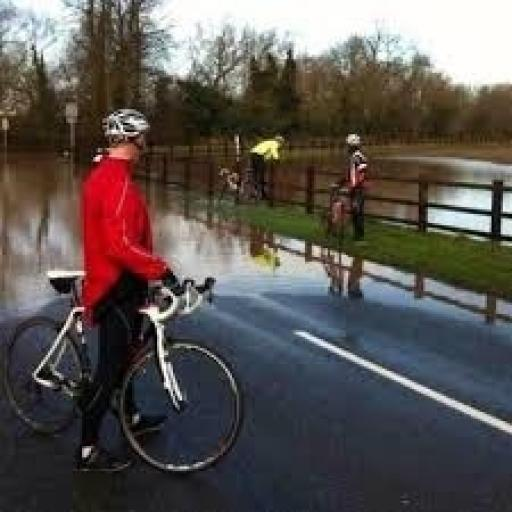cycling: (71, 104, 191, 476), (326, 130, 376, 244)
